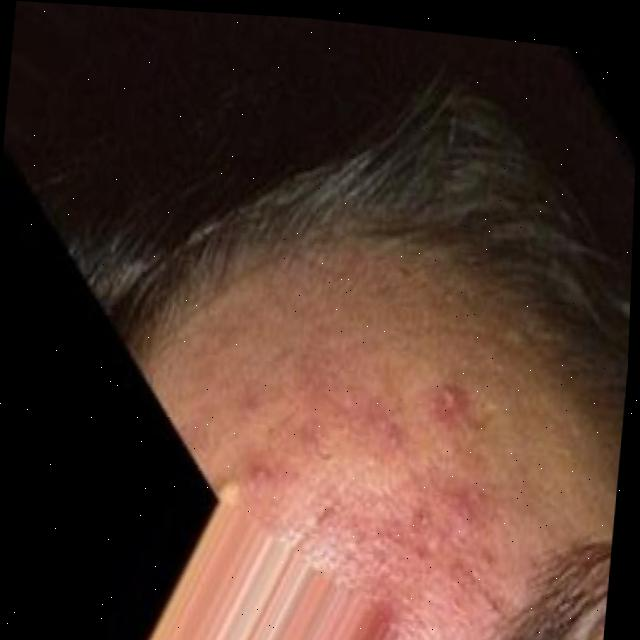Rosacea: (227, 358, 507, 613)
